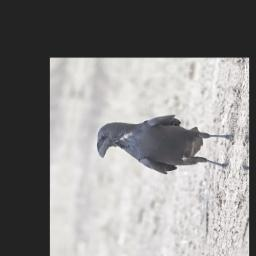Crow: (92, 105, 238, 183)
